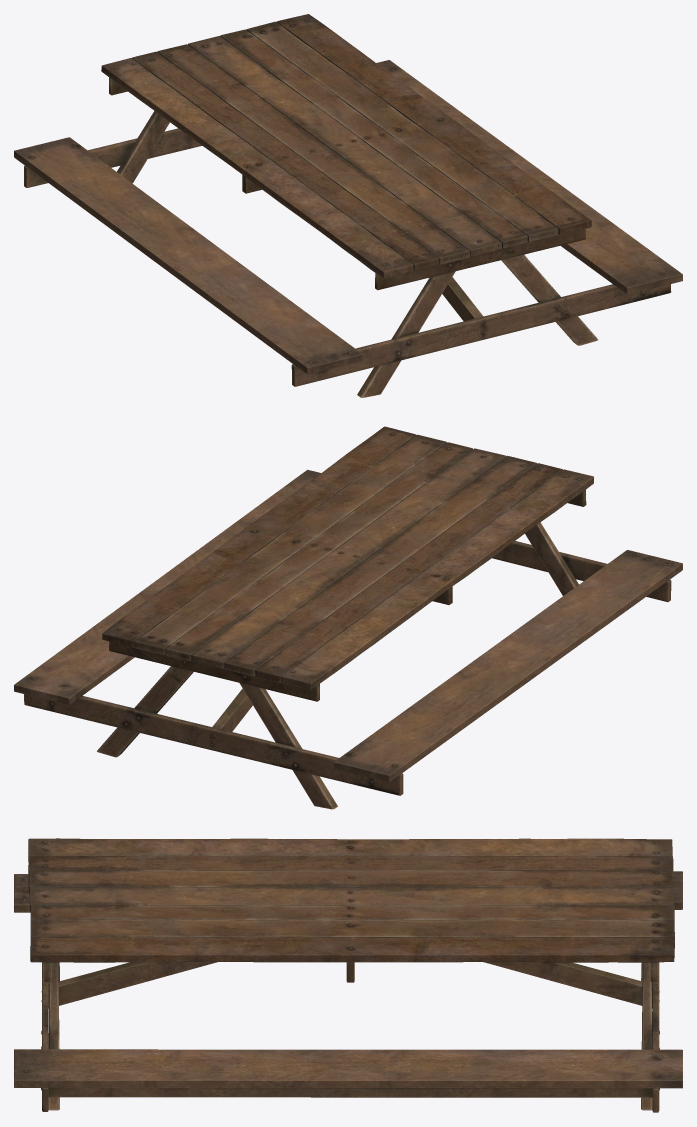
Rendered from wooden_picnic_table.glb.
3 renders of one model, top to bottom at view 1: azimuth 30°, elevation 25°; view 2: azimuth 150°, elevation 25°; view 3: azimuth 270°, elevation 25°, orthographic. The views are drawn at different scales.
Parts seen in each view (by area): view 1: wooden_picnic_table; view 2: wooden_picnic_table; view 3: wooden_picnic_table.
Boxes of the visible parts, x1,y1,x2,y2 form: wooden_picnic_table: [14, 14, 682, 397]; wooden_picnic_table: [14, 426, 682, 809]; wooden_picnic_table: [14, 838, 682, 1112].
Bounding box in the file's own units: 2.24 × 0.746 × 3.02.
Materials: 2 (2 with a texture image).
